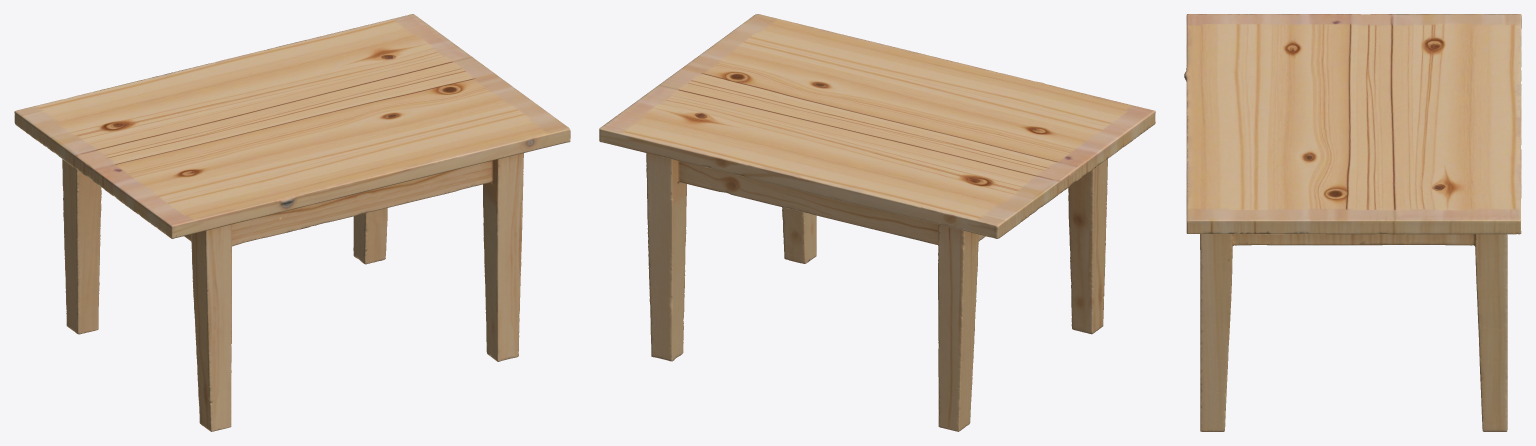
Rendered from Meshy_AI_A_very_simple_and_pla_0506113826_texture.fbx.
3 renders of one model, left to right at view 1: azimuth 30°, elevation 25°; view 2: azimuth 150°, elevation 25°; view 3: azimuth 270°, elevation 25°, orthographic. The views are drawn at different scales.
Visible parts, largest first — view 1: Mesh_0; view 2: Mesh_0; view 3: Mesh_0.
Part boxes in pixels (left/top/right/bottom): Mesh_0: left=14, top=14, right=570, bottom=431; Mesh_0: left=599, top=14, right=1155, bottom=431; Mesh_0: left=1184, top=14, right=1521, bottom=431.
Bounding box in the file's own units: 200 × 106 × 138.
